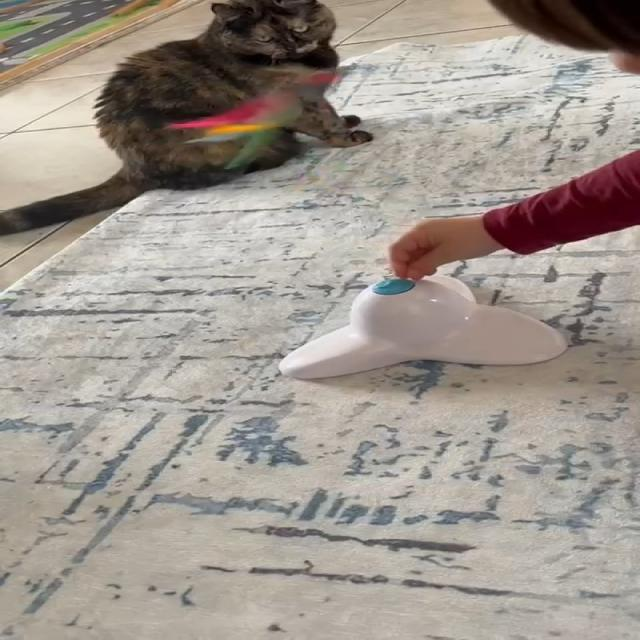authorized: (0, 0, 372, 236)
